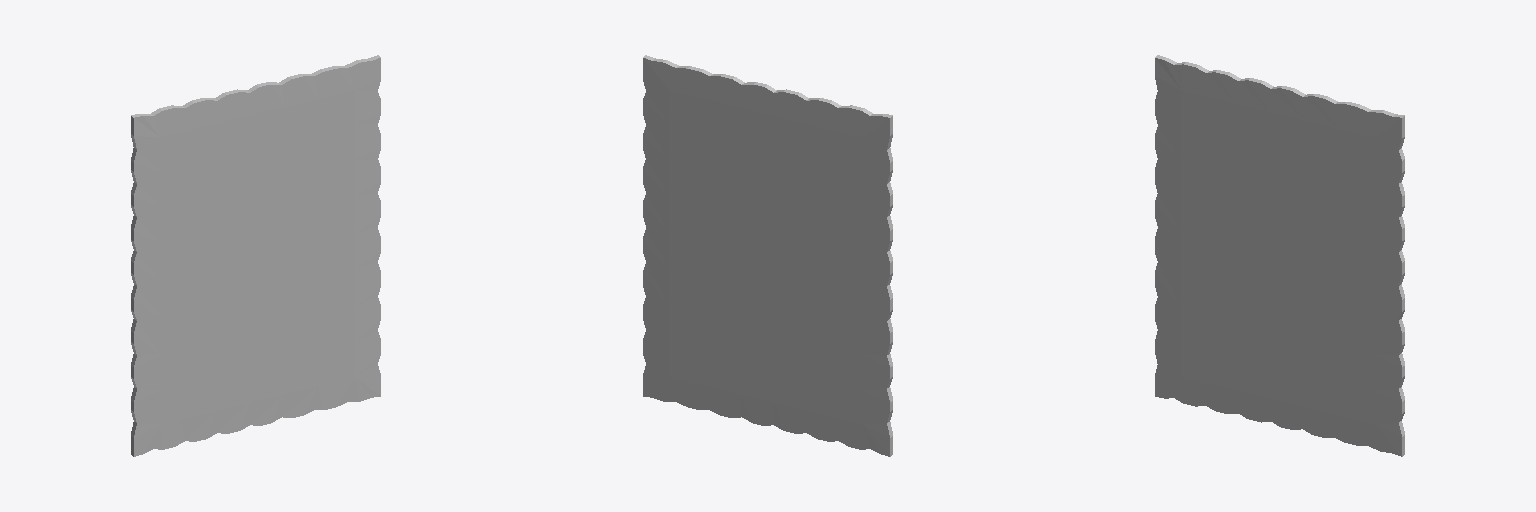
Rendered from Ingrid Painting.obj.
3 views of the same model, side by side, from view 1: azimuth 30°, elevation 25°; view 2: azimuth 150°, elevation 25°; view 3: azimuth 330°, elevation 25° (orthographic).
Parts seen in each view (by area): view 1: Ingrid_Painting; view 2: Ingrid_Painting; view 3: Ingrid_Painting.
Part boxes in pixels (left/top/right/bottom): Ingrid_Painting: left=131, top=55, right=380, bottom=456; Ingrid_Painting: left=643, top=55, right=892, bottom=456; Ingrid_Painting: left=1155, top=55, right=1404, bottom=456.
Bounding box in the file's own units: 3.82 × 5 × 0.0941.